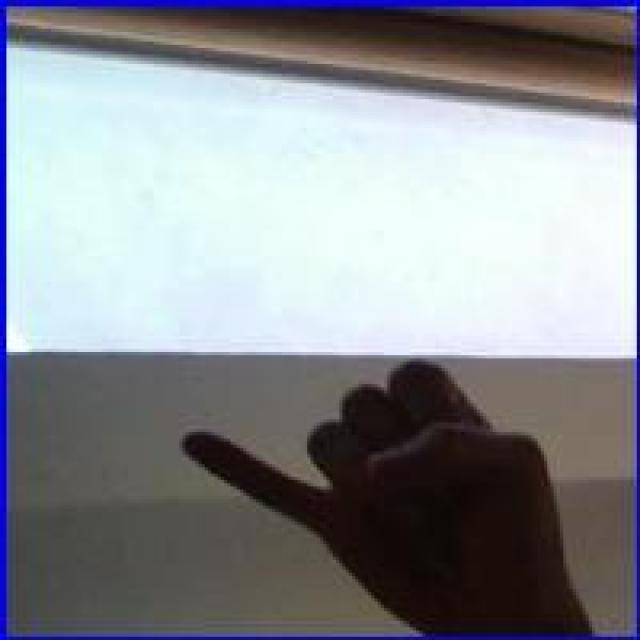J: (168, 357, 574, 603)
